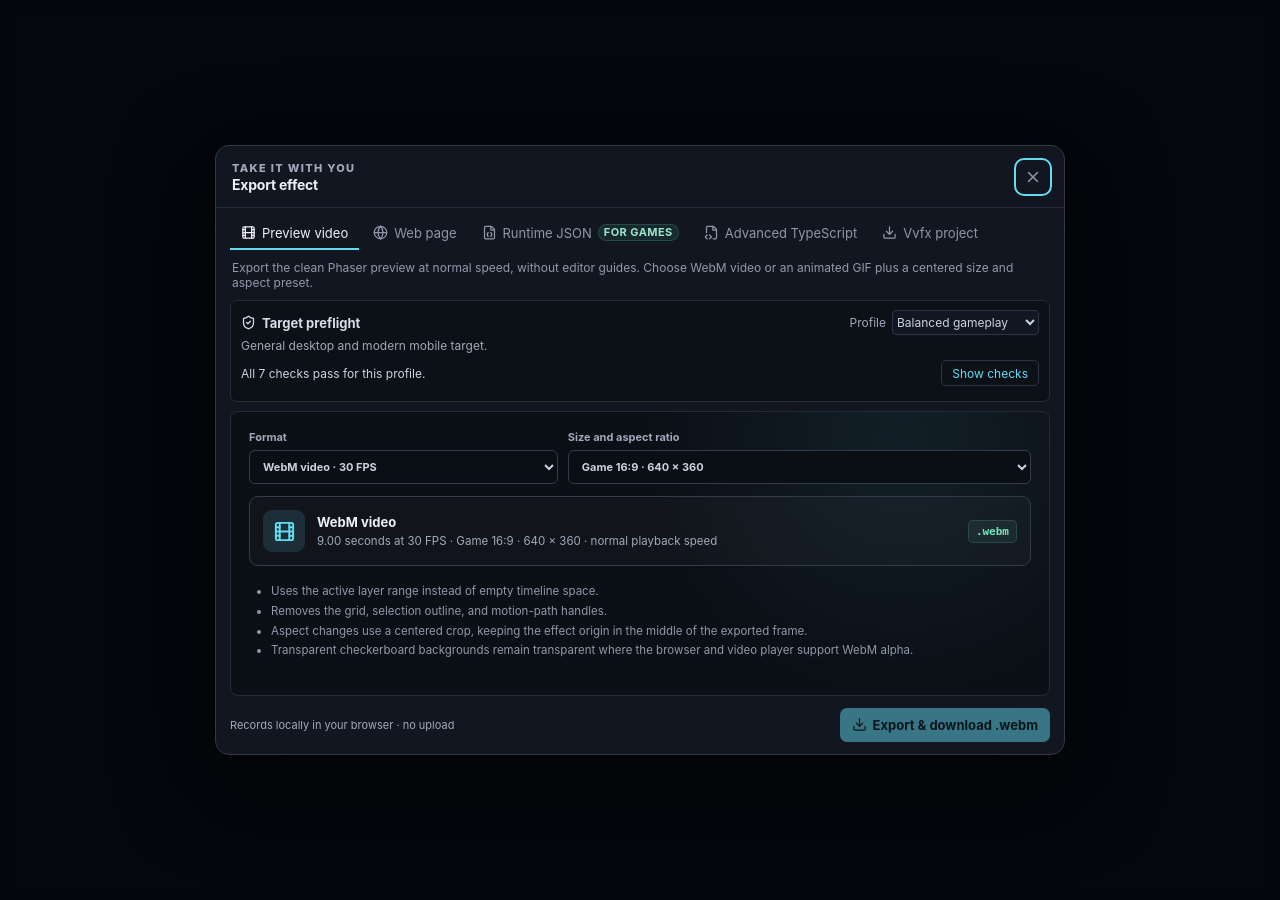
it: ExportDialog clipboard and WebM capability state › blocks an oversized GIF preset before starting export
Select "Animated GIF · 15 FPS" in the dropdown labelled "Format" at (403, 467), box [249,450,558,484]
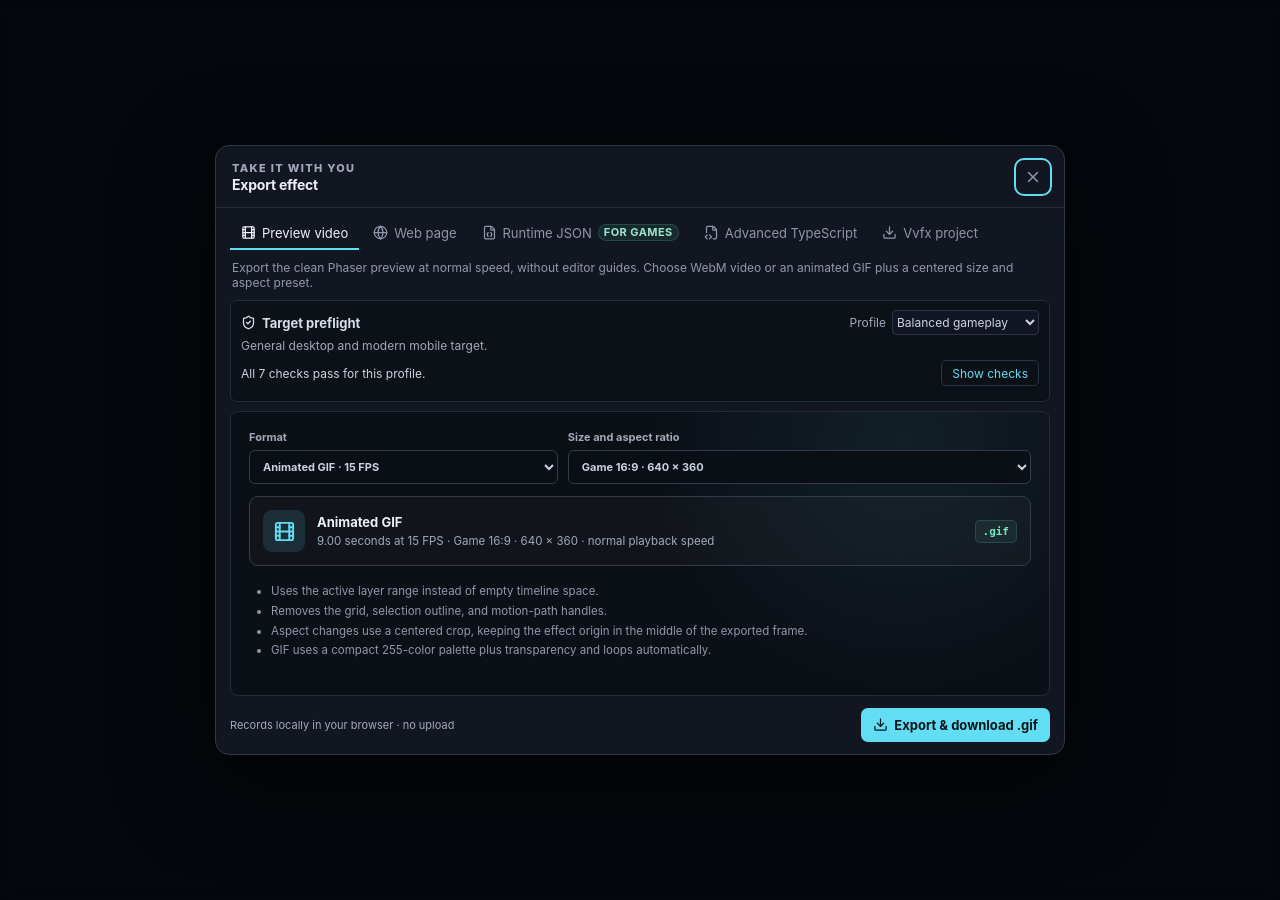
Select "HD 16:9 · 1280 × 720" in the dropdown labelled "Size and aspect ratio" at (799, 467), box [568,450,1031,484]
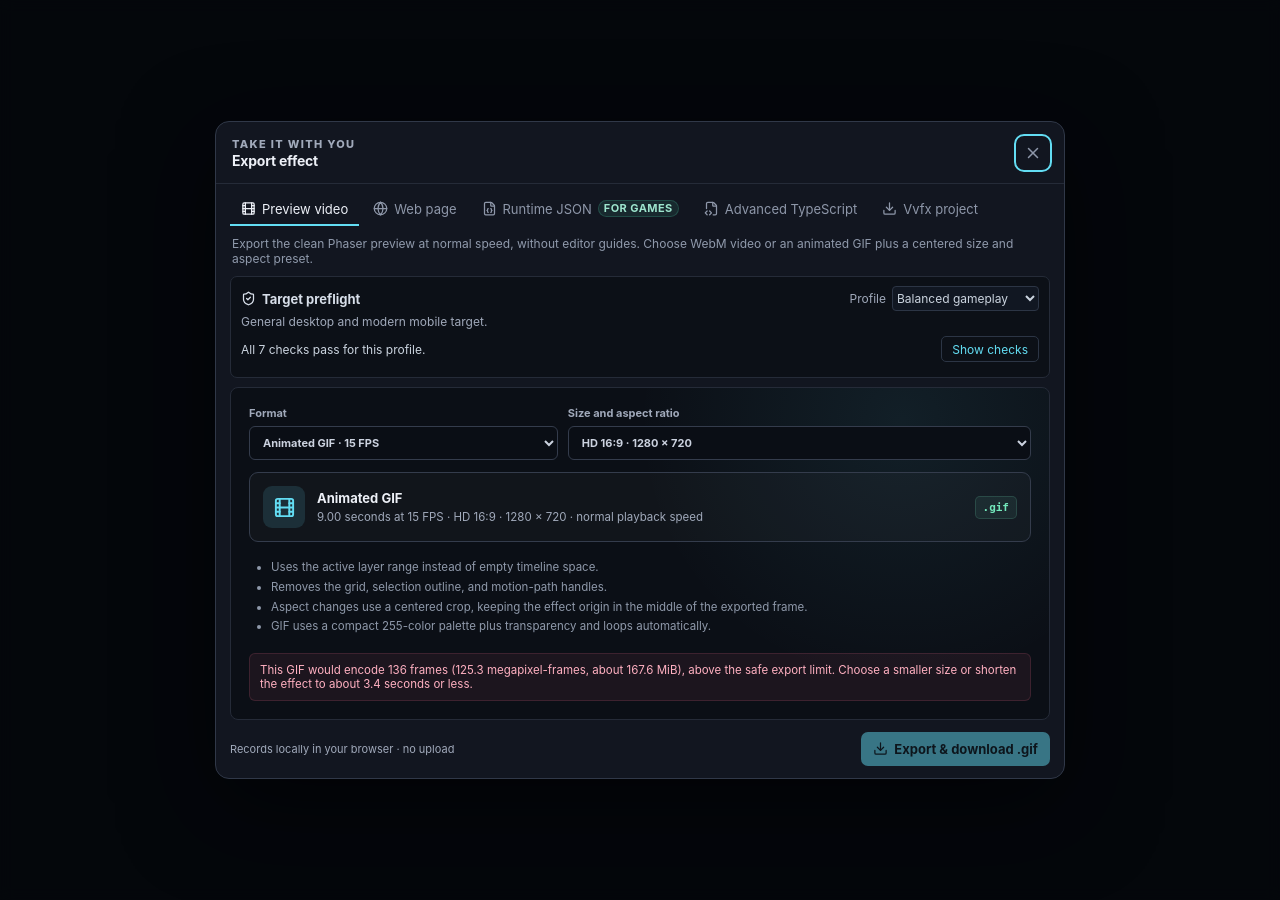
Expected: the button "Export & download .gif" is disabled, [861,732,1050,766]
